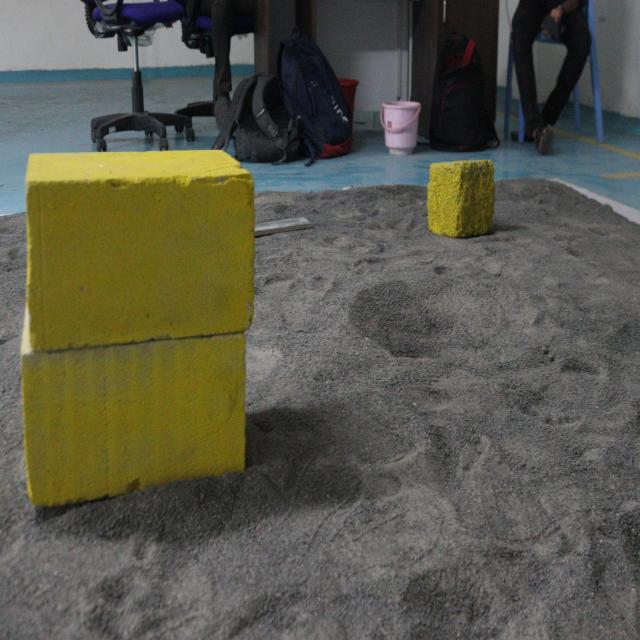box: (19, 146, 254, 500), (424, 156, 498, 260)
crater: (344, 253, 543, 382)
